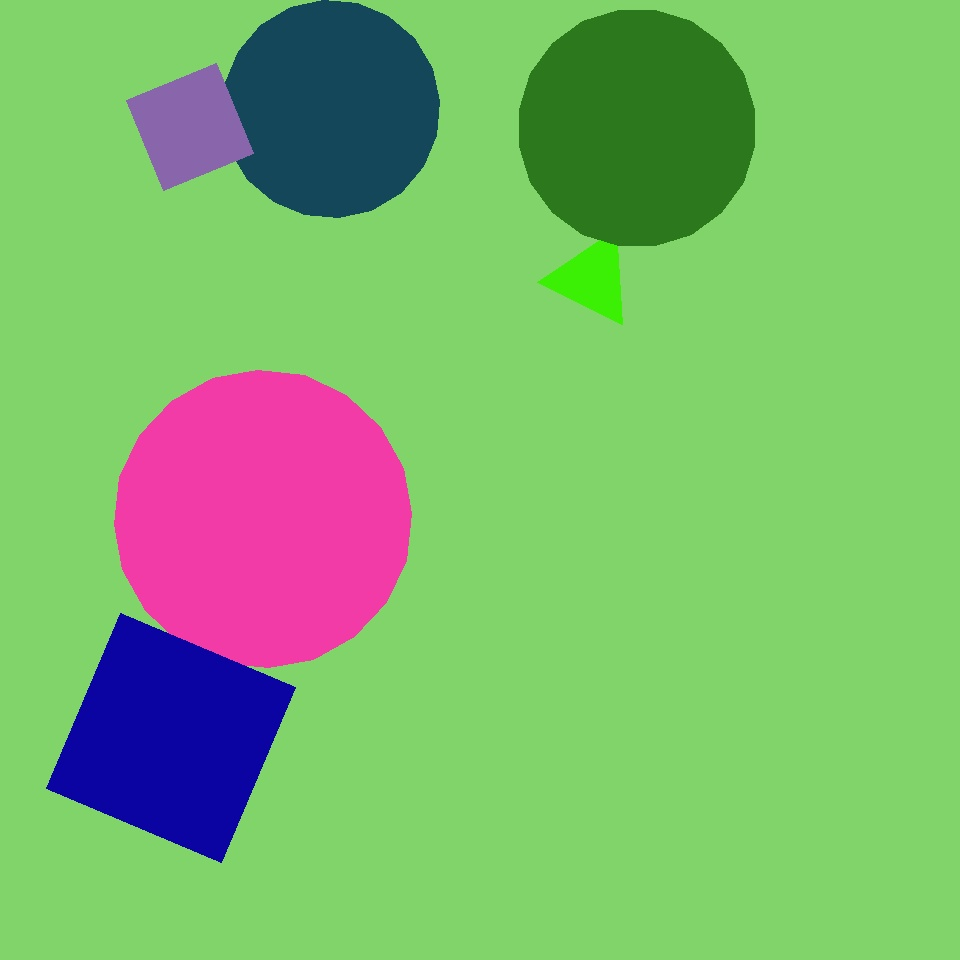circle: (533, 140, 807, 428), (99, 138, 262, 280), (550, 232, 635, 327)
square: (270, 345, 598, 673), (46, 614, 296, 862), (126, 64, 253, 190)
triangle: (115, 371, 412, 668), (520, 11, 755, 246), (222, 0, 440, 218)
